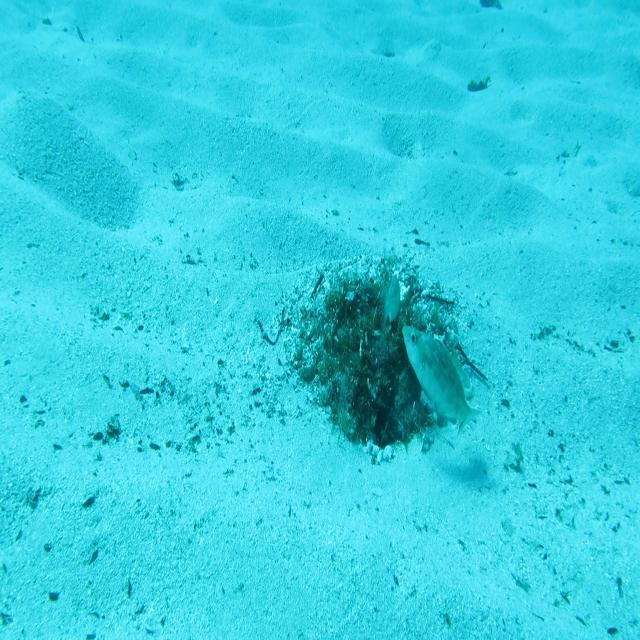GB: (401, 322, 482, 439)
core_nest: (350, 298, 400, 353)
female: (377, 269, 403, 338)
nest: (265, 248, 475, 489)
vegetation: (463, 76, 493, 96), (472, 0, 506, 12)
